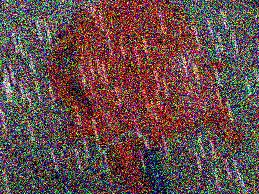chock: (13, 0, 259, 194)
